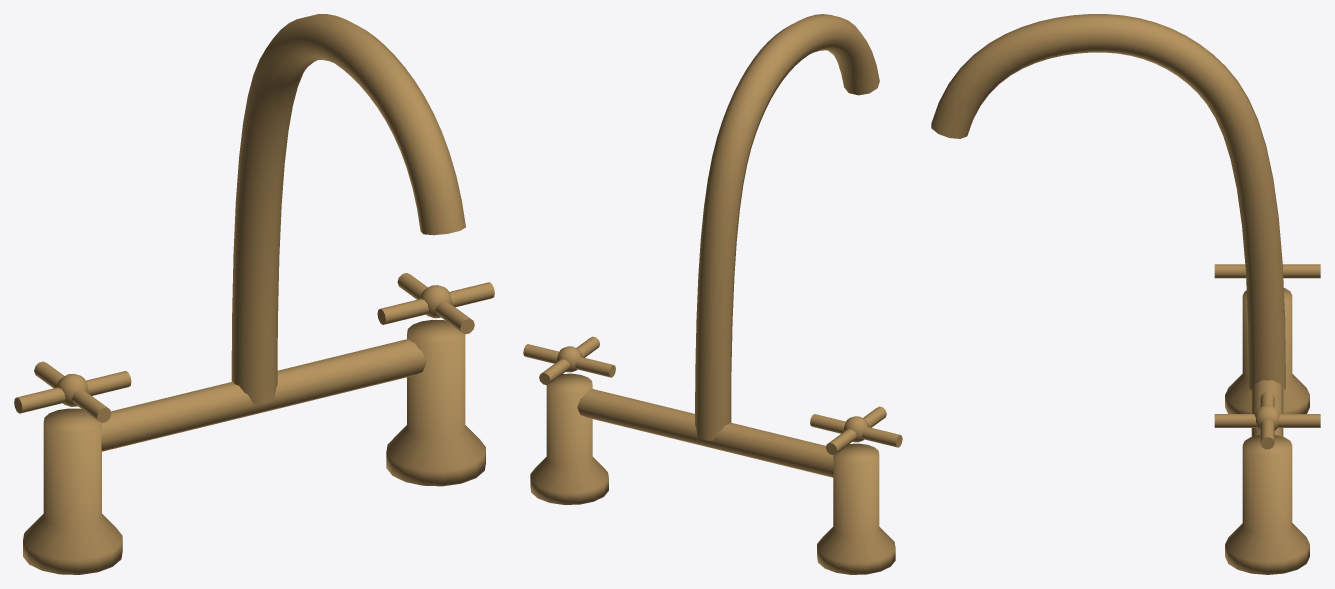
The model's file is a_faucet_bridge_2.glb.
3 renders of one model, left to right at view 1: azimuth 30°, elevation 25°; view 2: azimuth 150°, elevation 25°; view 3: azimuth 270°, elevation 25°, orthographic. The views are drawn at different scales.
Visible parts, largest first — view 1: o.013, o.012, o, o.006, o.003, o.009, o.007, o.001, o.004, o.010, o.011, o.005; view 2: o.013, o.012, o, o.006, o.003, o.009; view 3: o.013, o.006, o, o.012, o.010, o.008, o.002.
Boxes of the visible parts, box(x1,y1,x2,y2) form: o.013: box(231, 14, 465, 404); o.012: box(101, 338, 426, 451); o: box(23, 408, 122, 574); o.006: box(386, 320, 485, 486); o.003: box(14, 387, 65, 413); o.009: box(377, 298, 428, 324); o.007: box(449, 282, 494, 307); o.001: box(86, 371, 131, 395); o.004: box(72, 390, 111, 422); o.010: box(435, 301, 474, 334); o.011: box(420, 285, 452, 318); o.005: box(56, 373, 88, 406); o.013: box(695, 14, 879, 440); o.012: box(577, 388, 833, 477); o: box(817, 443, 895, 574); o.006: box(530, 373, 608, 504); o.003: box(862, 427, 902, 447); o.009: box(575, 357, 615, 377); o.013: box(931, 14, 1285, 389); o.006: box(1225, 435, 1309, 574); o: box(1225, 288, 1309, 413); o.012: box(1251, 380, 1283, 436); o.010: box(1214, 414, 1257, 427); o.008: box(1278, 414, 1320, 427); o.002: box(1282, 264, 1320, 278).
Bounding box in the file's own units: 0.26 × 0.2907 × 0.2201.
